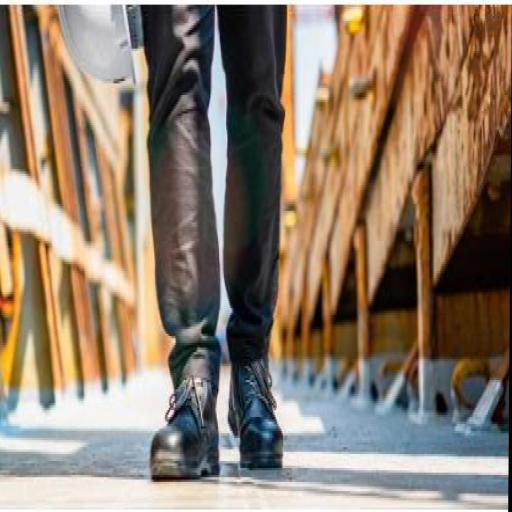safety_boots: (140, 354, 226, 485), (224, 363, 293, 478)
